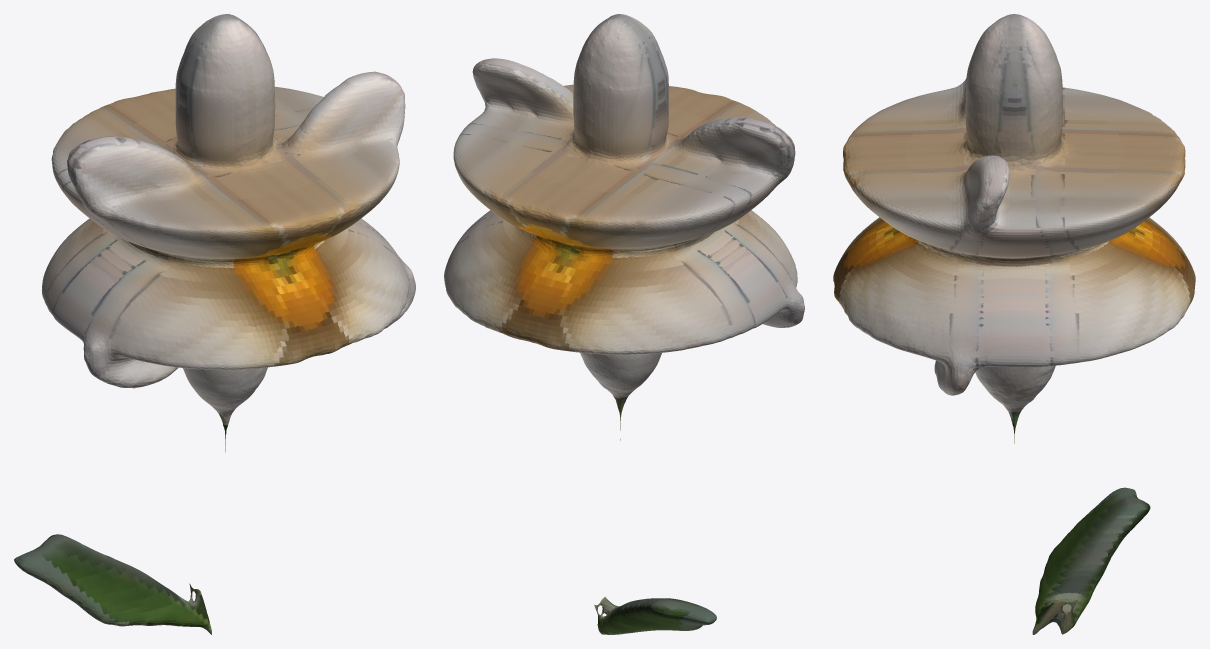
The model's file is flower_v2.glb.
The picture shows the model from 3 angles, left to right: view 1: azimuth 30°, elevation 25°; view 2: azimuth 150°, elevation 25°; view 3: azimuth 270°, elevation 25°; orthographic projection. The views are drawn at different scales.
Visible parts, largest first — view 1: geometry_0; view 2: geometry_0; view 3: geometry_0.
Boxes of the visible parts, left/top/right/bottom form: geometry_0: left=14, top=14, right=415, bottom=634; geometry_0: left=444, top=14, right=804, bottom=634; geometry_0: left=833, top=14, right=1195, bottom=634.
Size of the model in its own units: 0.5577 by 1 by 0.5297.
1 material, 1 textured.
